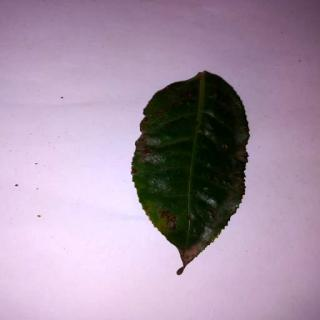Bird Eye Spot: (131, 73, 251, 277)
